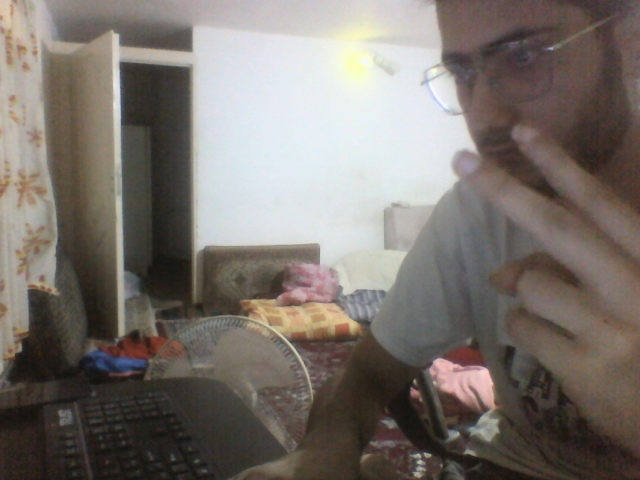Azadi: (447, 125, 639, 430)
sorat: (429, 2, 636, 204)
